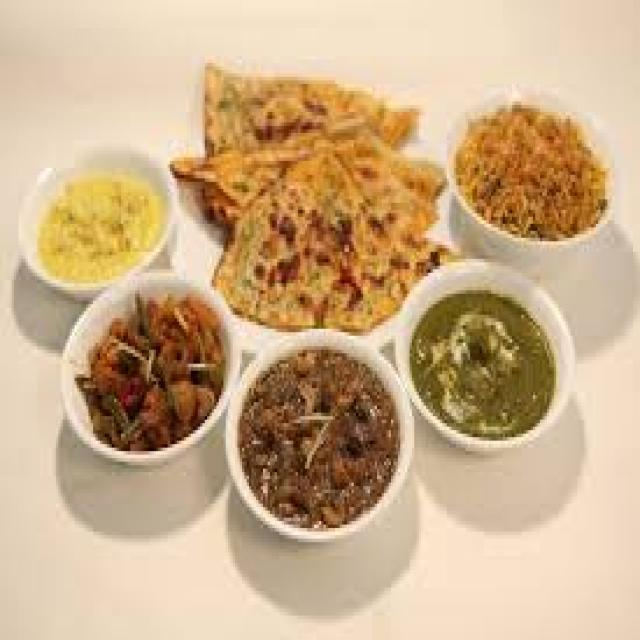dal: (30, 159, 170, 295)
roti: (210, 63, 427, 355)
sweet: (232, 347, 406, 546), (411, 291, 563, 445)
veg-fry: (75, 278, 235, 462)
